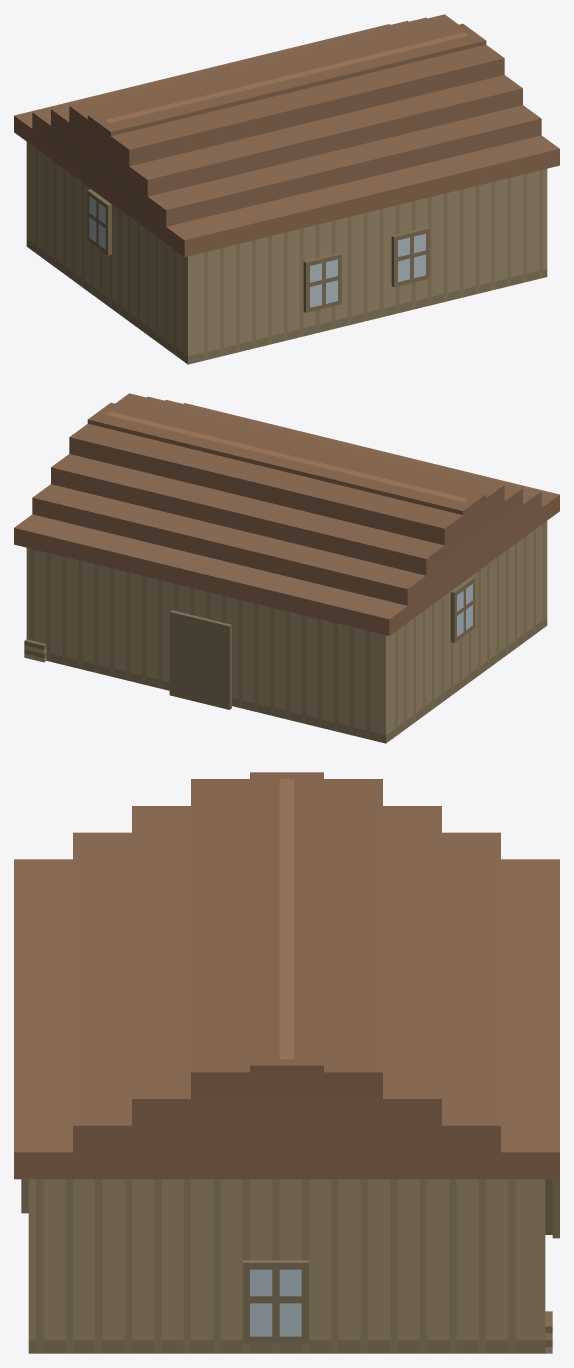
The model's file is peleteria_03.glb.
3 views of the same model, one above another, from view 1: azimuth 30°, elevation 25°; view 2: azimuth 150°, elevation 25°; view 3: azimuth 270°, elevation 25° (orthographic). The views are drawn at different scales.
Parts seen in each view (by area): view 1: peleteria_03; view 2: peleteria_03; view 3: peleteria_03.
Boxes of the visible parts, x1,y1,x2,y2 form: peleteria_03: (14,14,559,364); peleteria_03: (14,393,559,743); peleteria_03: (14,772,559,1353).
Bounding box in the file's own units: 9.4 × 4.4 × 7.4.
